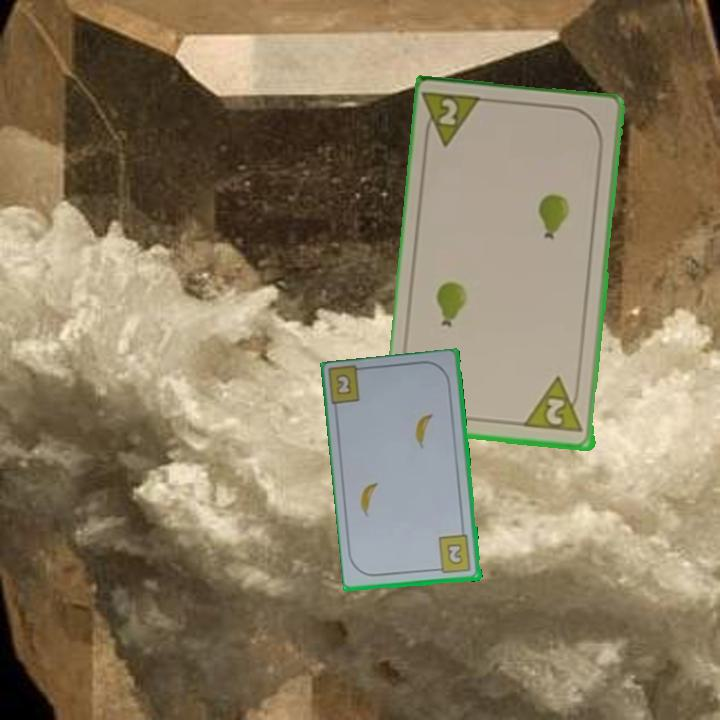2b: (432, 532, 474, 576), (333, 373, 355, 398)
2p: (421, 88, 488, 151), (523, 374, 586, 436)
